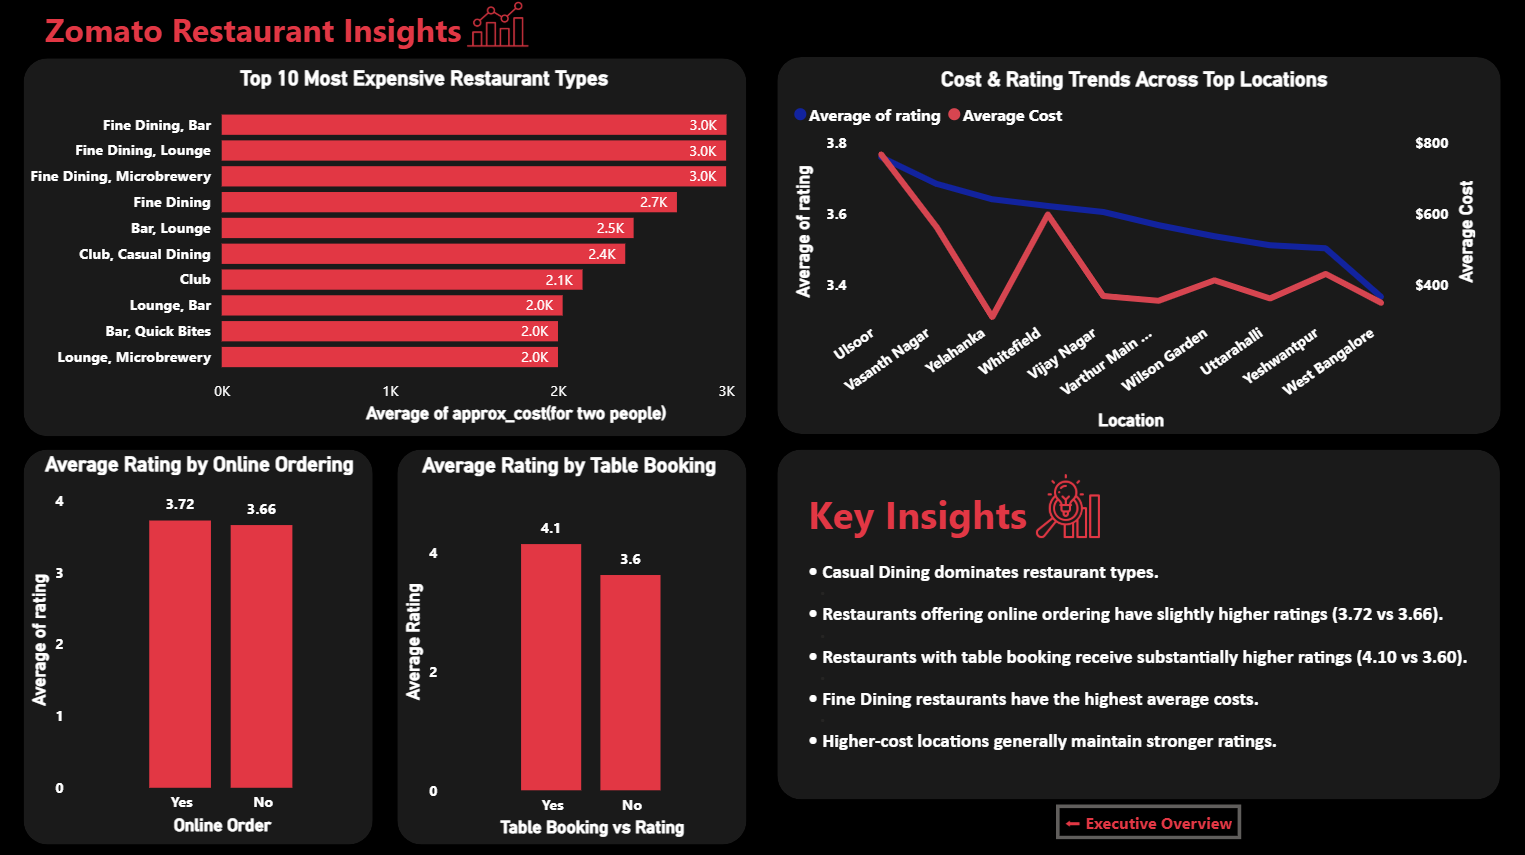

This screenshot's page, from the dashboard's own definition file:
{"tool":"powerbi","page":{"name":"Restaurant Insights","canvas":[1280,720],"ordinal":1},"visuals":[{"type":"textbox","box":[0,8.5,411.9,54.5],"z":0},{"type":"shape","box":[27.4,54.9,601,314.2],"z":1000},{"type":"clusteredBarChart","title":"Top 10 Most Expensive Restaurant Types","fields":{"Category":["zomato_clean.rest_type"],"Y":["Avg(zomato_clean.approx_cost(for two people))"]},"box":[43.6,62.4,596.5,306.6],"z":2000},{"type":"shape","box":[653.2,54,601.6,313.4],"z":3000},{"type":"shape","box":[27.5,380.2,290.4,328.4],"z":4000},{"type":"shape","box":[654,380,601,291],"z":5000},{"type":"lineChart","title":"Cost & Rating Trends Across Top Locations","fields":{"Y":["Avg(zomato_clean.rating)"],"Category":["zomato_clean.location"],"Y2":["zomato_clean.Average Cost"]},"box":[661.6,62.1,577.2,306.6],"z":6000},{"type":"image","box":[332.7,0,177.4,53.9],"z":7000},{"type":"clusteredColumnChart","title":"Average Rating by Online Ordering","fields":{"Category":["zomato_clean.online_order"],"Y":["Avg(zomato_clean.rating)"]},"box":[27.5,382.3,292.5,323.2],"z":8000},{"type":"shape","box":[338,380.2,290.4,328.4],"z":9000},{"type":"clusteredColumnChart","title":"Average Rating by Table Booking","fields":{"Category":["zomato_clean.book_table"],"Y":["zomato_clean.Average Rating"]},"box":[338,383.4,286.2,324.2],"z":10000},{"type":"actionButton","box":[885,676,154,29],"z":11000},{"type":"textbox","box":[675,372.2,604.6,325],"z":12000},{"type":"image","box":[850,399.1,90.7,56.5],"z":13000}]}

Visuals, with their boxes in screenshot pixels (x1, y1, x2, y2), scaled from the page's 1280x720 canvas onto the 1525x855 screenshot:
textbox: (x1=0, y1=10, x2=491, y2=75)
shape: (x1=33, y1=65, x2=749, y2=438)
"Top 10 Most Expensive Restaurant Types" clusteredBarChart: (x1=52, y1=74, x2=763, y2=438)
shape: (x1=778, y1=64, x2=1495, y2=436)
shape: (x1=33, y1=451, x2=379, y2=841)
shape: (x1=779, y1=451, x2=1495, y2=797)
"Cost & Rating Trends Across Top Locations" lineChart: (x1=788, y1=74, x2=1476, y2=438)
image: (x1=396, y1=0, x2=608, y2=64)
"Average Rating by Online Ordering" clusteredColumnChart: (x1=33, y1=454, x2=381, y2=838)
shape: (x1=403, y1=451, x2=749, y2=841)
"Average Rating by Table Booking" clusteredColumnChart: (x1=403, y1=455, x2=744, y2=840)
actionButton: (x1=1054, y1=803, x2=1238, y2=837)
textbox: (x1=804, y1=442, x2=1524, y2=828)
image: (x1=1013, y1=474, x2=1121, y2=541)
